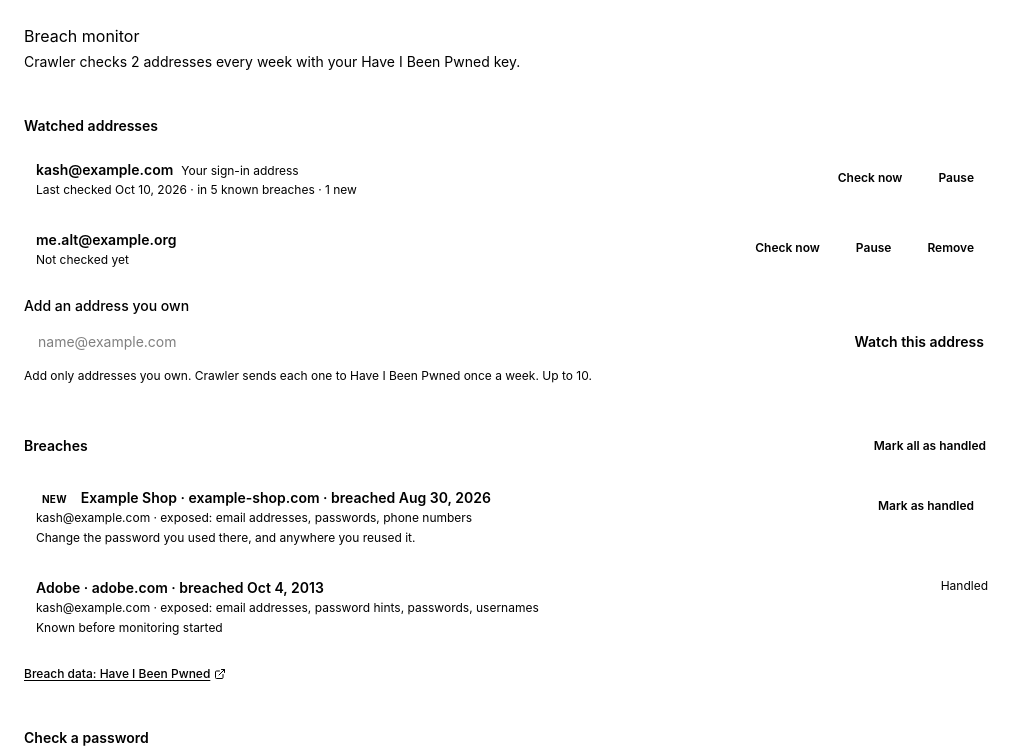
Test: BreachMonitorTab › the server's refusal to add an address is shown beside the form as it was sent
This screenshot has width=1024, height=753.
Type "kash@example.com" into the field labelled "Add an address you own".
click(427, 342); type("kash@example.com")  # box [24, 322, 830, 362]
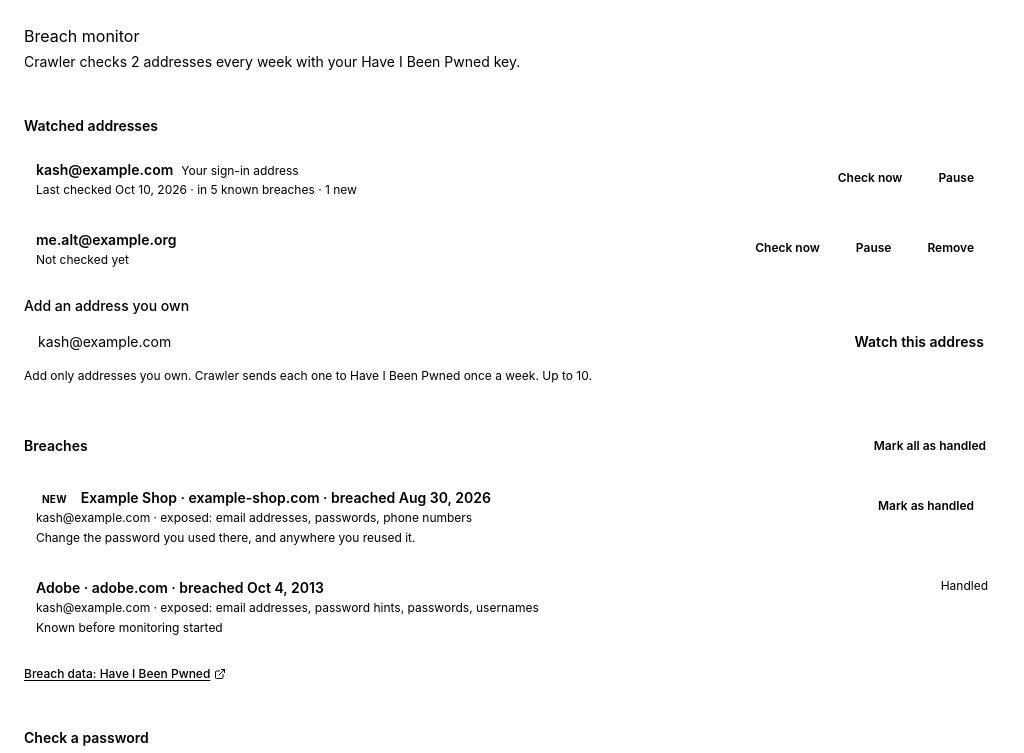
Click the button "Watch this address".
click(919, 342)  # box [838, 322, 1000, 362]
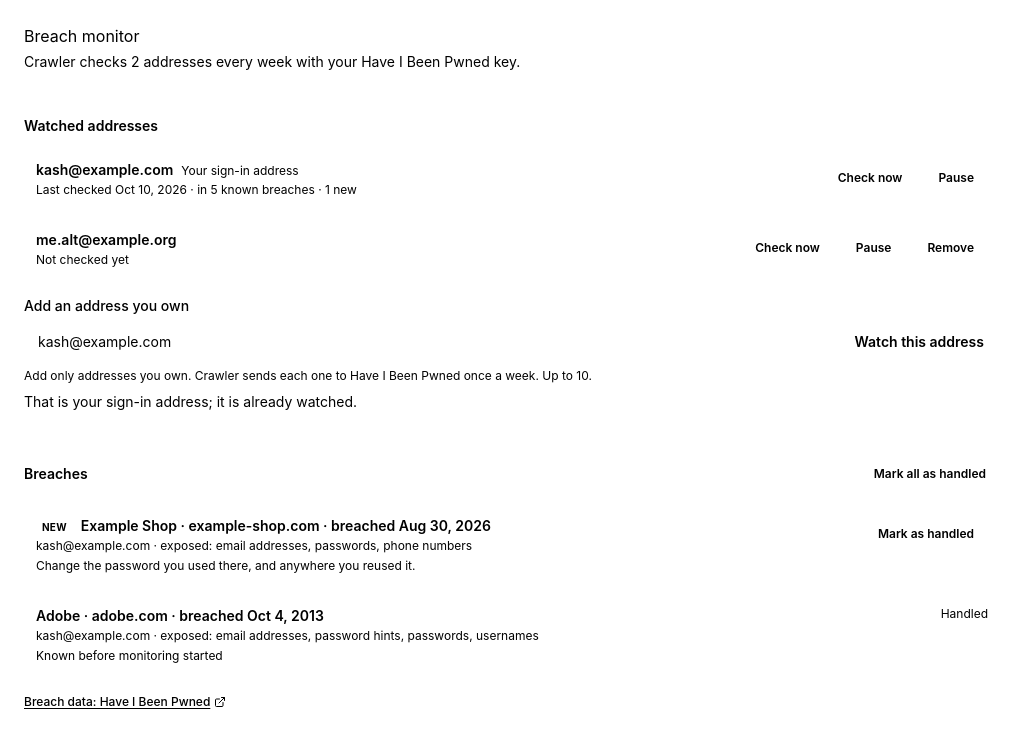
Result: the message reads "That is your sign-in address; it is already watched." at [24, 393, 357, 410]
